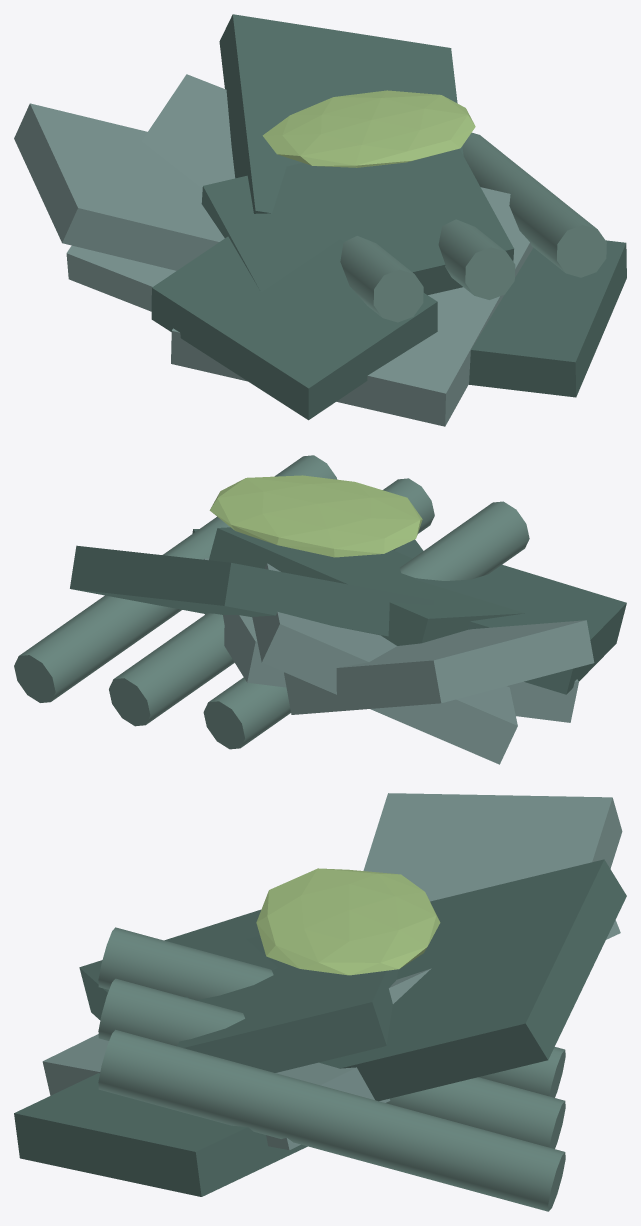
The model's file is cover-scrap-mossy.glb.
3 views of the same model, one above another, from view 1: azimuth 30°, elevation 25°; view 2: azimuth 150°, elevation 25°; view 3: azimuth 270°, elevation 25° (orthographic). The views are drawn at different scales.
Parts seen in each view (by area): view 1: cover-scrap-kit-mossy-dark, cover-scrap-kit-mossy-metal, cover-scrap-kit-mossy-shade, cover-scrap-kit-mossy-top; view 2: cover-scrap-kit-mossy-dark, cover-scrap-kit-mossy-metal, cover-scrap-kit-mossy-shade, cover-scrap-kit-mossy-top; view 3: cover-scrap-kit-mossy-dark, cover-scrap-kit-mossy-shade, cover-scrap-kit-mossy-metal, cover-scrap-kit-mossy-top.
Boxes of the visible parts, x1,y1,x2,y2 form: cover-scrap-kit-mossy-dark: [151, 14, 626, 420]; cover-scrap-kit-mossy-metal: [14, 74, 533, 426]; cover-scrap-kit-mossy-shade: [340, 132, 606, 322]; cover-scrap-kit-mossy-top: [262, 90, 475, 167]; cover-scrap-kit-mossy-dark: [70, 527, 626, 694]; cover-scrap-kit-mossy-metal: [204, 558, 594, 764]; cover-scrap-kit-mossy-shade: [14, 455, 529, 749]; cover-scrap-kit-mossy-top: [209, 475, 422, 557]; cover-scrap-kit-mossy-dark: [14, 859, 626, 1196]; cover-scrap-kit-mossy-shade: [98, 927, 565, 1211]; cover-scrap-kit-mossy-metal: [42, 793, 622, 1150]; cover-scrap-kit-mossy-top: [256, 868, 440, 975].
Bounding box in the file's own units: 1.89 × 0.8375 × 1.77.
